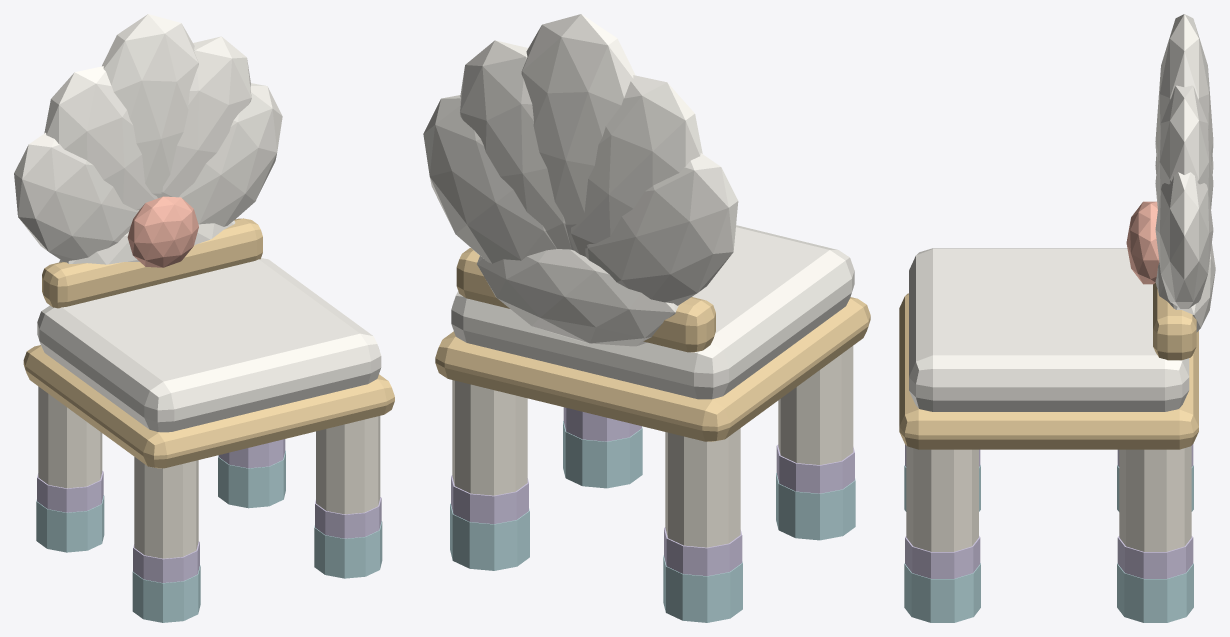
Rendered from pearl_chair.glb.
The picture shows the model from 3 angles, left to right: view 1: azimuth 30°, elevation 25°; view 2: azimuth 150°, elevation 25°; view 3: azimuth 270°, elevation 25°; orthographic projection. The views are drawn at different scales.
Visible parts, largest first — view 1: chair_seat, chair_rim, chair_back_2, chair_back_0, chair_back_1, chair_back_4, chair_back_rail, chair_back_3, chair_leg_fl, chair_leg_fr, chair_leg_bl, chair_medallion (+9 smaller); view 2: chair_seat, chair_rim, chair_back_2, chair_back_0, chair_back_hinge, chair_back_1, chair_back_4, chair_back_3, chair_leg_bl, chair_leg_br, chair_leg_fl, chair_back_rail (+8 smaller); view 3: chair_seat, chair_rim, chair_leg_fr, chair_leg_br, chair_back_4, chair_back_3, chair_back_2, chair_leg_fr_foot, chair_leg_br_foot, chair_back_rail, chair_medallion, chair_leg_br_band (+2 smaller).
Boxes of the visible parts, x1,y1,x2,y2 form: chair_seat: (37,258,381,432); chair_rim: (23,345,394,468); chair_back_2: (102,14,198,198); chair_back_0: (14,132,139,262); chair_back_1: (44,66,157,210); chair_back_4: (179,83,282,226); chair_back_rail: (42,218,262,308); chair_back_3: (161,36,251,197); chair_leg_fl: (134,457,198,558); chair_leg_fr: (316,416,380,514); chair_leg_bl: (38,386,102,488); chair_medallion: (127,196,198,267); chair_seat: (451,225,854,399); chair_rim: (435,297,870,441); chair_back_2: (521,14,635,250); chair_back_0: (585,153,738,305); chair_back_hinge: (477,249,678,346); chair_back_1: (569,75,702,256); chair_back_4: (423,95,556,263); chair_back_3: (460,40,571,249); chair_leg_bl: (665,428,740,547); chair_leg_br: (452,380,527,495); chair_leg_fl: (778,346,853,464); chair_back_rail: (456,248,715,352); chair_seat: (909,248,1189,411); chair_rim: (899,293,1198,449); chair_leg_fr: (906,446,978,551); chair_leg_br: (1119,446,1191,551); chair_back_4: (1155,172,1213,308); chair_back_3: (1155,85,1213,209); chair_back_2: (1155,14,1213,164); chair_leg_fr_foot: (904,563,980,622); chair_leg_br_foot: (1117,563,1193,622); chair_back_rail: (1153,283,1196,360); chair_medallion: (1126,201,1159,284); chair_leg_br_band: (1117,536,1193,578).
Bounding box in the file's own units: 0.6991 × 1.24 × 0.6548.
